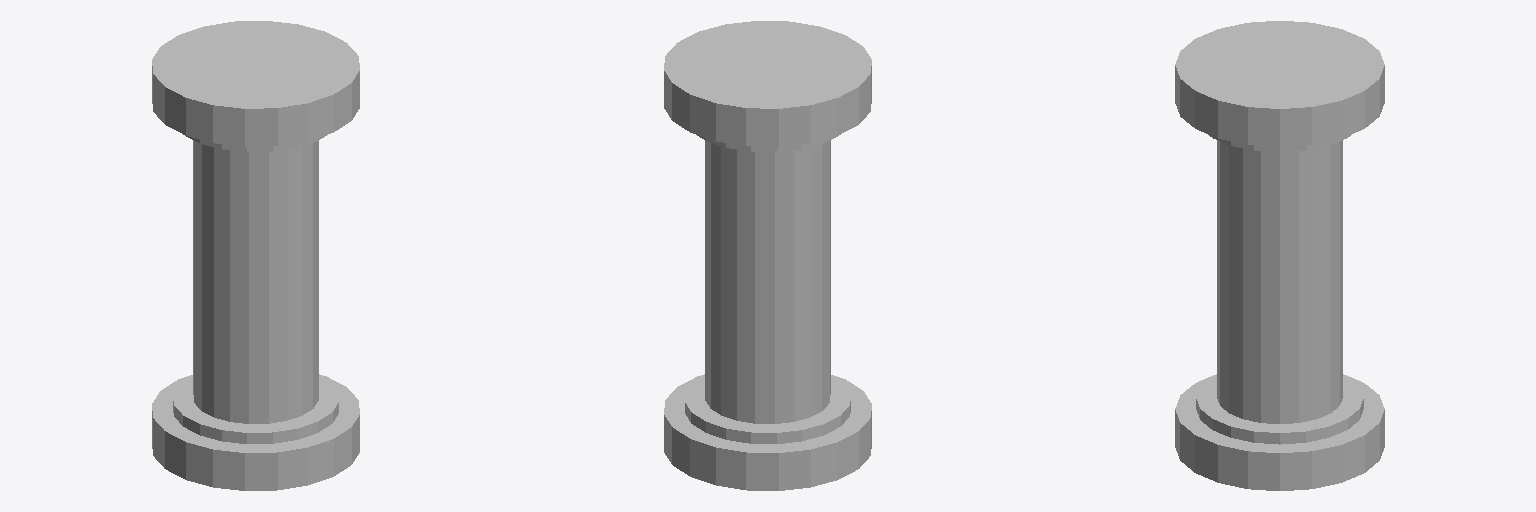
Rendered from Pillar.obj.
3 views of the same model, side by side, from view 1: azimuth 30°, elevation 25°; view 2: azimuth 150°, elevation 25°; view 3: azimuth 270°, elevation 25° (orthographic).
Visible parts, largest first — view 1: pasted__pCylinder10 group2, pCylinder12, pCylinder14, pCylinder13, pCylinder10; view 2: pasted__pCylinder10 group2, pCylinder12, pCylinder14, pCylinder13, pCylinder10; view 3: pasted__pCylinder10 group2, pCylinder12, pCylinder14, pCylinder13, pCylinder10.
Boxes of the visible parts, x1,y1,x2,y2 form: pasted__pCylinder10 group2: [193, 140, 318, 423]; pCylinder12: [152, 21, 359, 146]; pCylinder14: [152, 374, 359, 490]; pCylinder13: [173, 375, 338, 443]; pCylinder10: [186, 135, 326, 151]; pasted__pCylinder10 group2: [705, 140, 830, 423]; pCylinder12: [664, 21, 871, 146]; pCylinder14: [664, 374, 871, 490]; pCylinder13: [685, 375, 850, 443]; pCylinder10: [697, 135, 837, 151]; pasted__pCylinder10 group2: [1217, 140, 1342, 423]; pCylinder12: [1175, 21, 1384, 146]; pCylinder14: [1175, 374, 1384, 490]; pCylinder13: [1196, 375, 1363, 444]; pCylinder10: [1209, 135, 1350, 152].
Size of the model in its own units: 1 by 2.01 by 1.